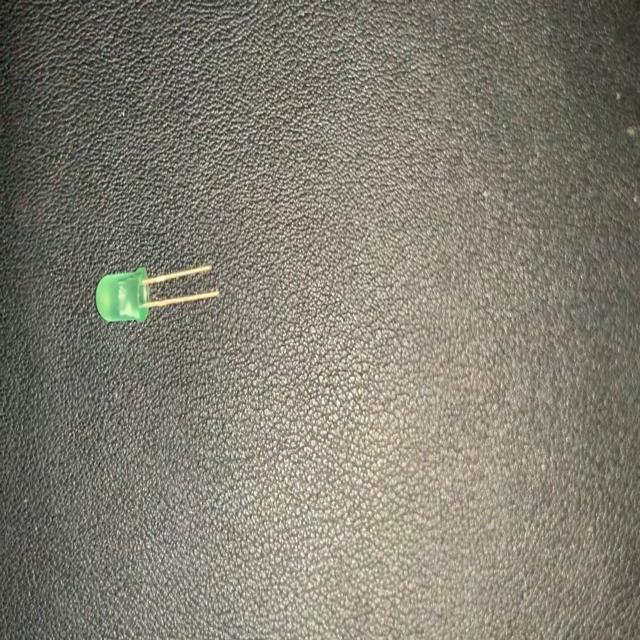LED: (94, 258, 219, 325)
